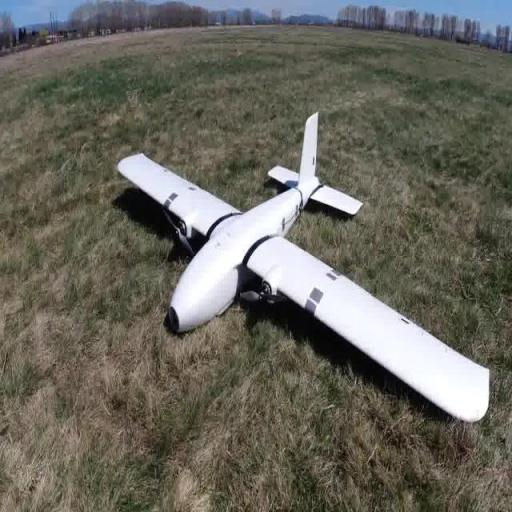uav: (111, 105, 494, 435)
